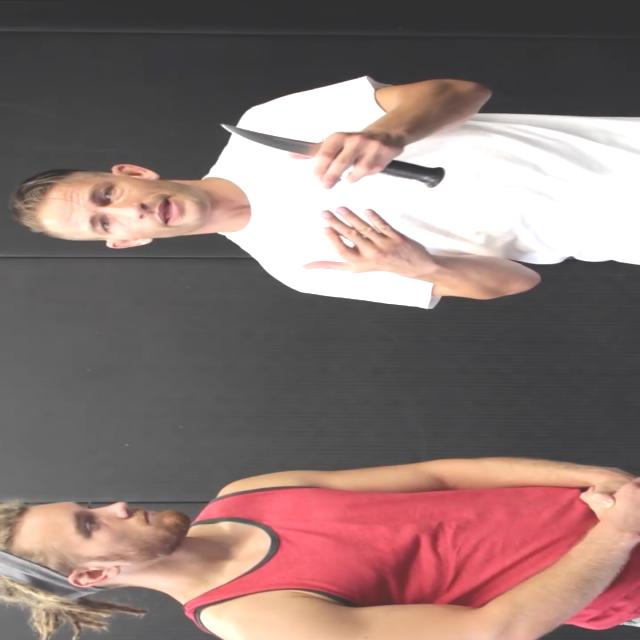knife: (212, 114, 450, 193)
